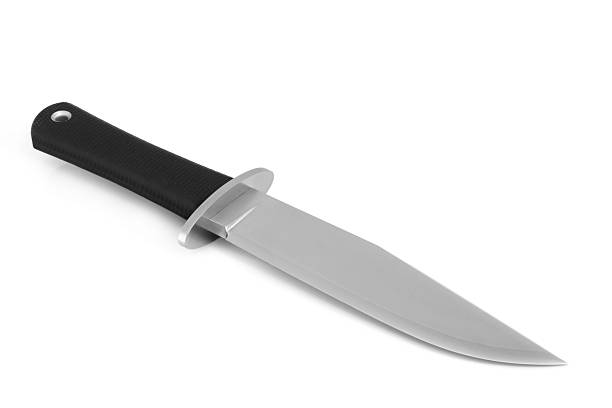knife: (30, 100, 570, 369)
